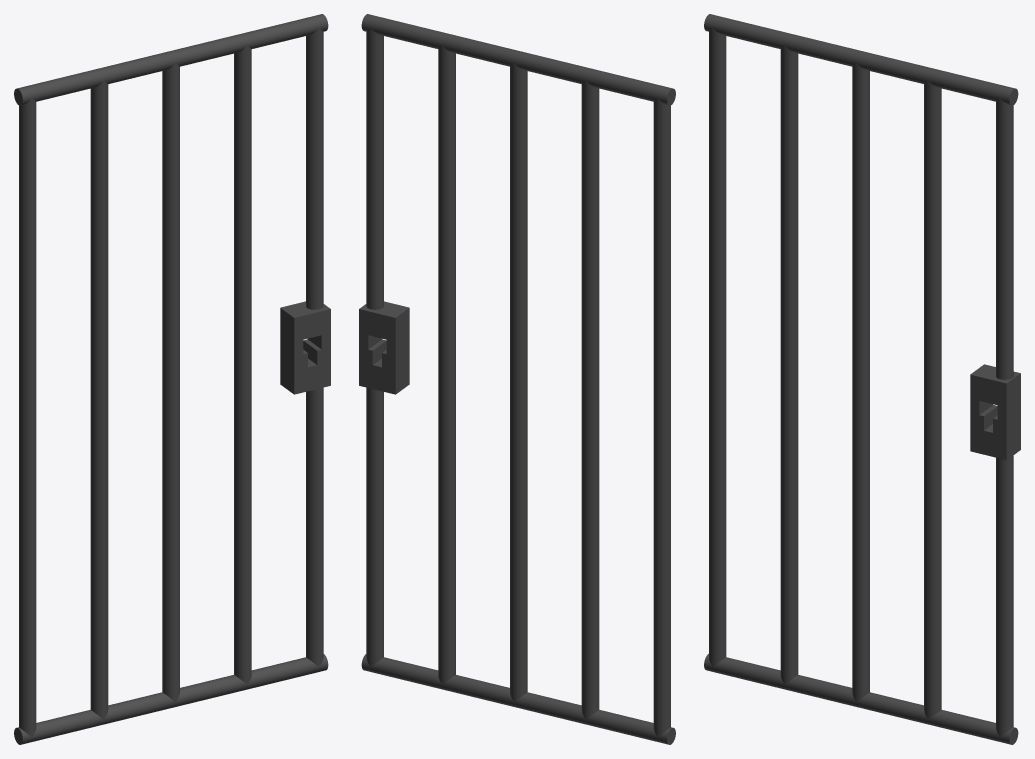
Rendered from gate.fbx.
3 views of the same model, side by side, from view 1: azimuth 30°, elevation 25°; view 2: azimuth 150°, elevation 25°; view 3: azimuth 330°, elevation 25° (orthographic).
Visible parts, largest first — view 1: Gate; view 2: Gate; view 3: Gate.
Part boxes in pixels (x1=…): Gate: x1=14, y1=14, x2=330, y2=744; Gate: x1=359, y1=14, x2=675, y2=744; Gate: x1=704, y1=14, x2=1020, y2=744.
Bounding box in the file's own units: 1000 × 2050 × 80.
